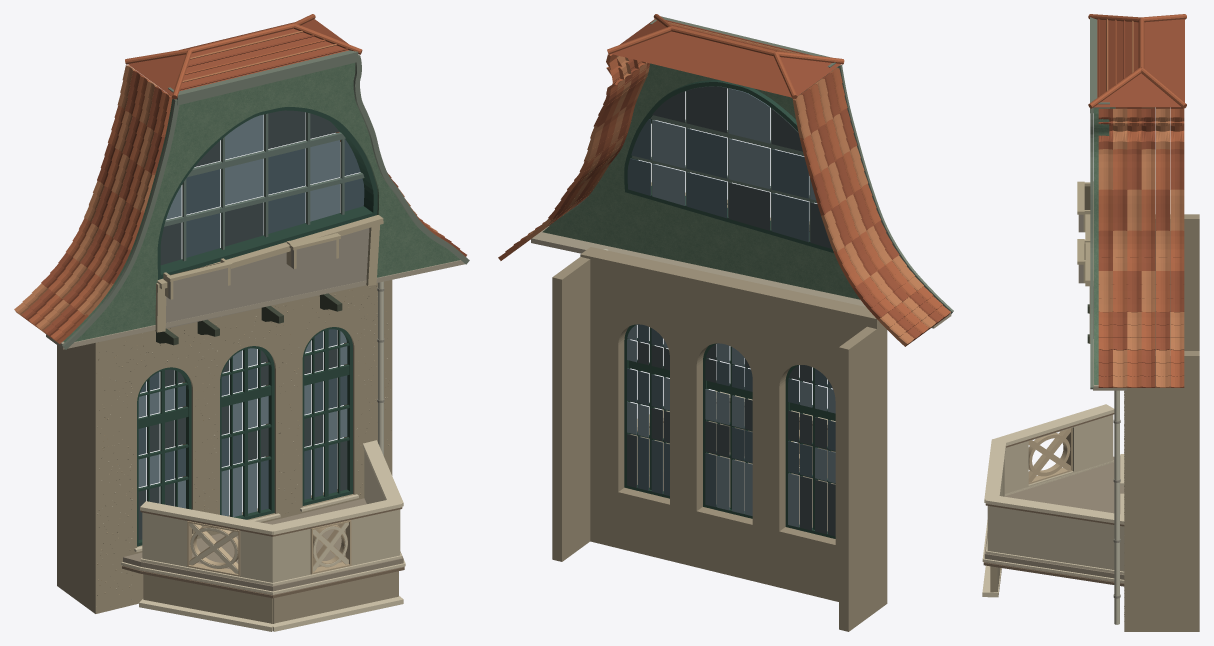
Rendered from changning-lixi-lane-24-dai-villa-gable-web.glb.
The picture shows the model from 3 angles, left to right: view 1: azimuth 30°, elevation 25°; view 2: azimuth 150°, elevation 25°; view 3: azimuth 270°, elevation 25°; orthographic projection. The views are drawn at different scales.
Visible parts, largest first — view 1: 戴宅的绿色曲边山墙、三联拱窗与折角阳台; view 2: 戴宅的绿色曲边山墙、三联拱窗与折角阳台; view 3: 戴宅的绿色曲边山墙、三联拱窗与折角阳台.
Part boxes in pixels (x1,y1,x2,y2): 戴宅的绿色曲边山墙、三联拱窗与折角阳台: [14, 14, 469, 631]; 戴宅的绿色曲边山墙、三联拱窗与折角阳台: [498, 14, 953, 631]; 戴宅的绿色曲边山墙、三联拱窗与折角阳台: [982, 14, 1199, 631].
Size of the model in its own units: 7.32 by 9.11 by 3.44.
Materials: 26 (1 with a texture image).
